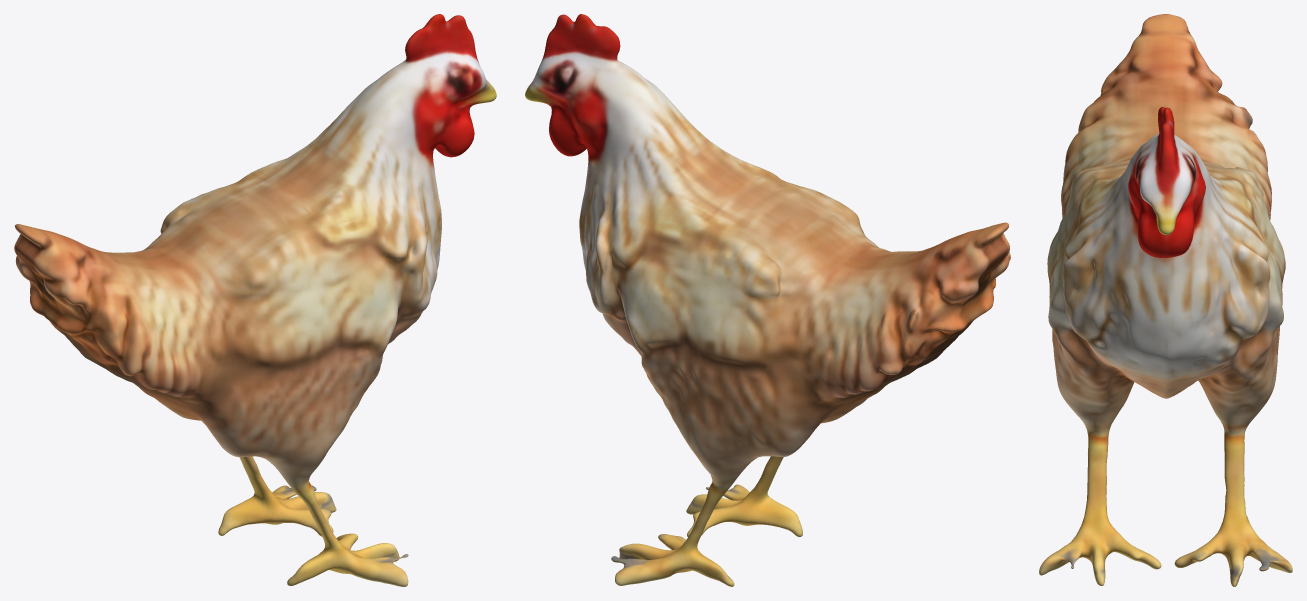
The model's file is 8101a9f6298b_chicken__3d_asset_0_glb.glb.
The picture shows the model from 3 angles, left to right: view 1: azimuth 30°, elevation 25°; view 2: azimuth 150°, elevation 25°; view 3: azimuth 270°, elevation 25°; orthographic projection. The views are drawn at different scales.
Visible parts, largest first — view 1: world; view 2: world; view 3: world.
Boxes of the visible parts, x1,y1,x2,y2 form: world: (14, 14, 496, 586); world: (525, 14, 1010, 586); world: (1039, 14, 1292, 586).
Size of the model in its own units: 0.4859 by 0.4912 by 0.2198.
Materials: 1 (1 with a texture image).
